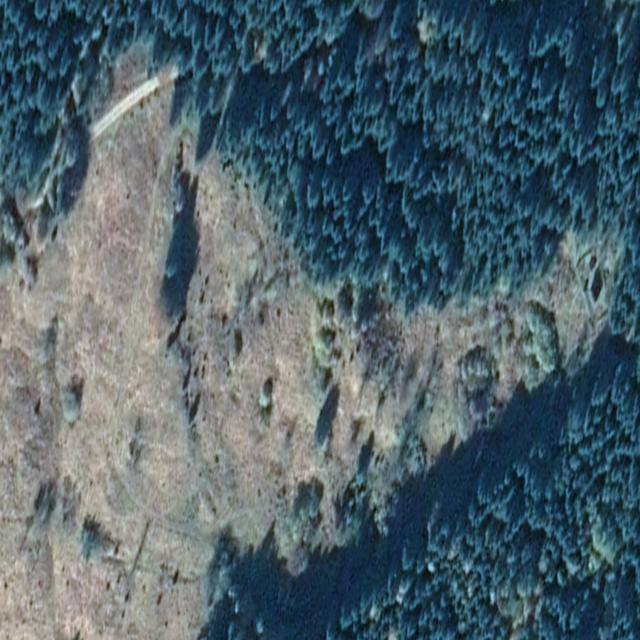bare-soil: (0, 69, 600, 639)
tree: (0, 0, 640, 343), (241, 335, 640, 639), (0, 77, 82, 214)
